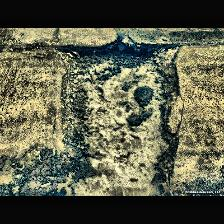pothole: (51, 37, 184, 196)
